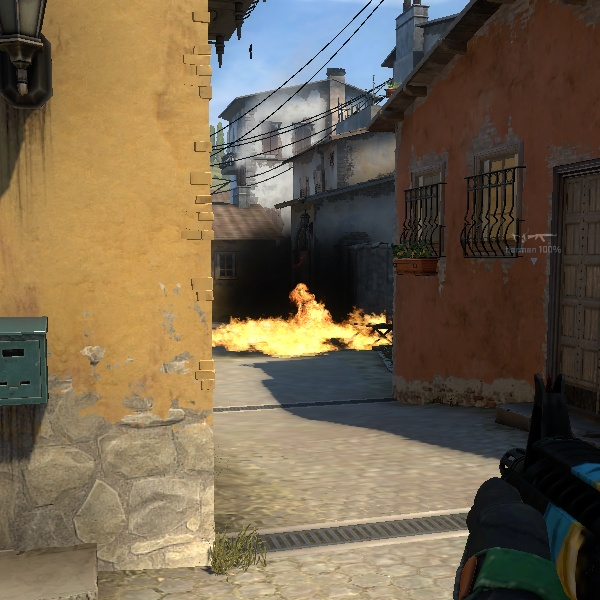ct_body: (362, 313, 399, 348)
